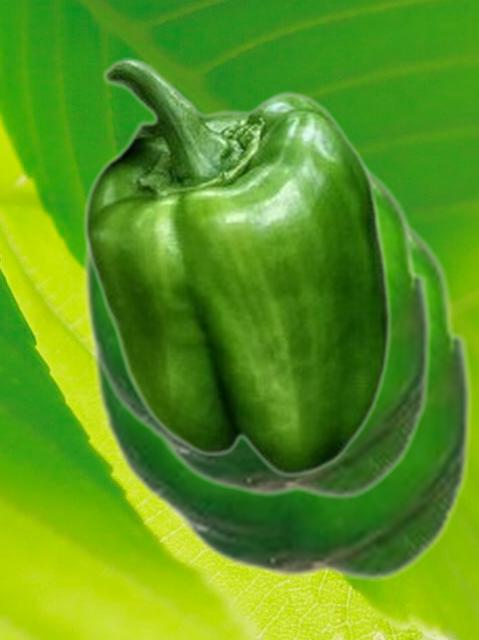bell_pepper: (88, 217, 473, 581), (82, 57, 392, 477), (80, 159, 432, 499)
